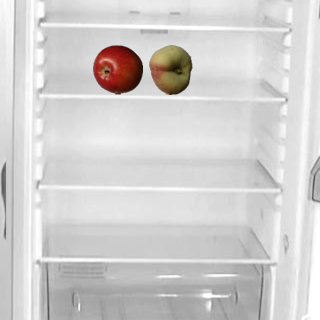Apple Braeburn: (92, 44, 142, 94)
Peach Flat: (145, 44, 195, 94)
